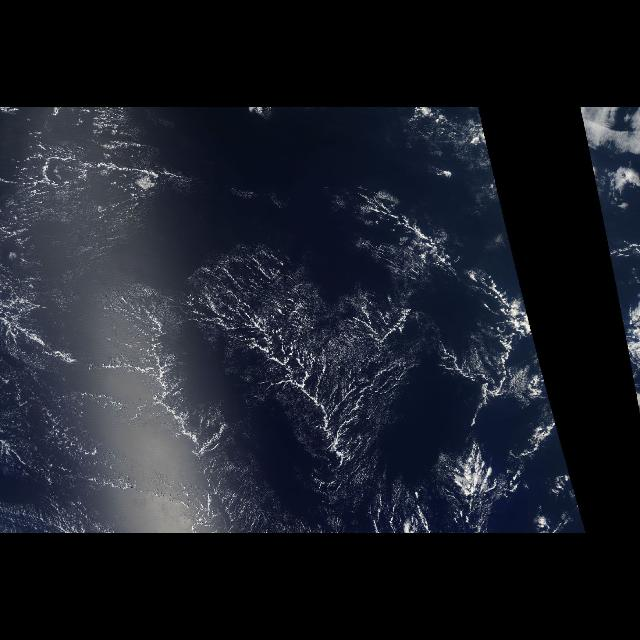Gravel: (236, 252, 390, 466), (29, 138, 178, 256)
Sugar: (32, 152, 516, 528)
